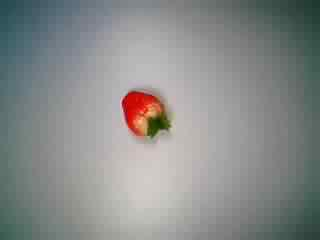strawberry: (112, 83, 180, 147)
